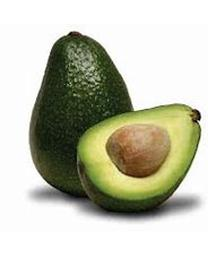avocado: (28, 32, 136, 199), (75, 104, 202, 215)
